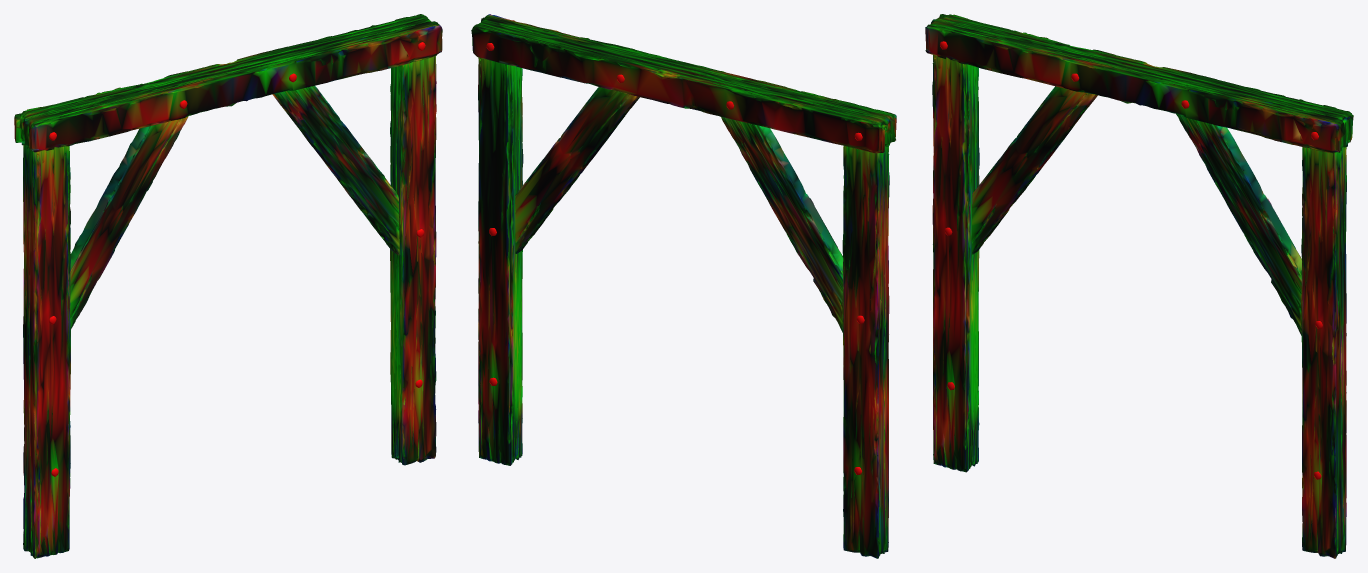
Rendered from SM_Wood_FenceFoundations.fbx.
The picture shows the model from 3 angles, left to right: view 1: azimuth 30°, elevation 25°; view 2: azimuth 150°, elevation 25°; view 3: azimuth 330°, elevation 25°; orthographic projection.
Visible parts, largest first — view 1: SM_Wood_FenceFoundations_LOD0; view 2: SM_Wood_FenceFoundations_LOD0; view 3: SM_Wood_FenceFoundations_LOD0.
Part boxes in pixels (x1,y1,x2,y2): SM_Wood_FenceFoundations_LOD0: (14,14,442,558); SM_Wood_FenceFoundations_LOD0: (471,14,896,558); SM_Wood_FenceFoundations_LOD0: (925,14,1353,558).
Size of the model in its own units: 303 by 26.27 by 308.
